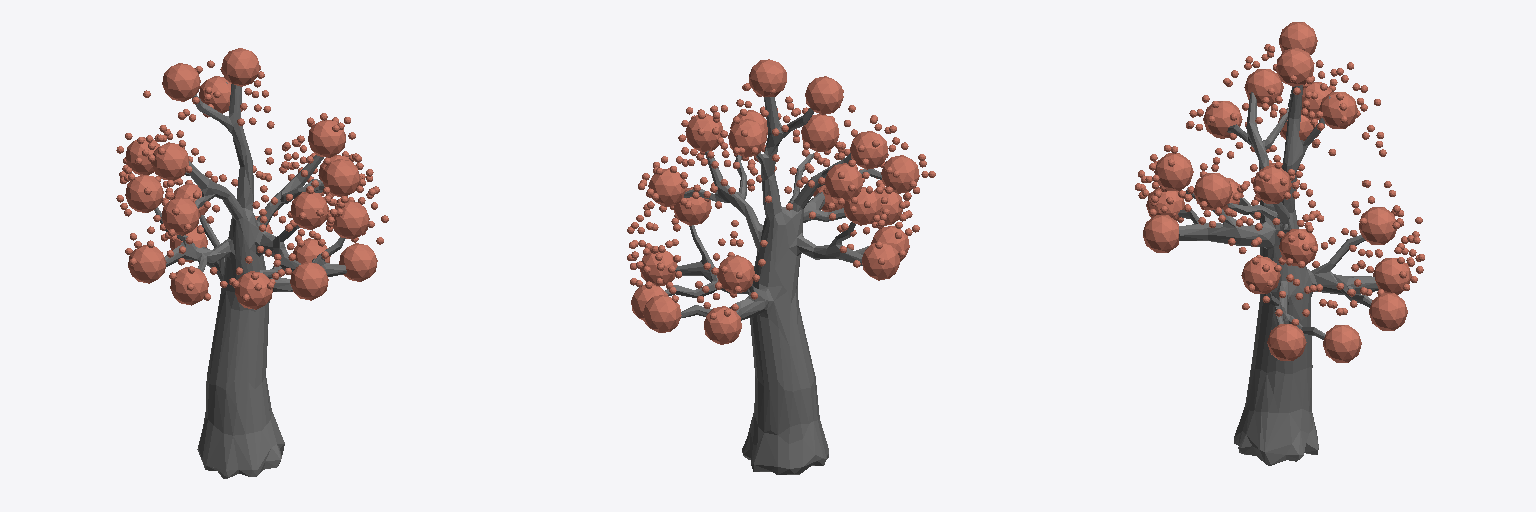
The model's file is sakura.obj.
The picture shows the model from 3 angles: view 1: azimuth 30°, elevation 25°; view 2: azimuth 150°, elevation 25°; view 3: azimuth 270°, elevation 25°; orthographic projection.
Parts seen in each view (by area): view 1: Trunk_Group1, Icosphere, Icosphere.008, Icosphere.009, Icosphere.015, Icosphere.018, Icosphere.004, Icosphere.014, Icosphere.003, Icosphere.006, Icosphere.017, Icosphere.002 (+6 smaller); view 2: Trunk_Group1, Icosphere.008, Icosphere.013, Icosphere.009, Icosphere.017, Icosphere.012, Icosphere.003, Icosphere.005, Icosphere.006, Icosphere.007, Icosphere.011, Icosphere.010 (+7 smaller); view 3: Trunk_Group1, Icosphere.305_Icosphere.358, Icosphere.013, Icosphere.018, Icosphere, Icosphere.009, Icosphere.017, Icosphere.015, Icosphere.011, Icosphere.012, Icosphere.010, Icosphere.006 (+6 smaller).
Part boxes in pixels (bbox=[...]): Trunk_Group1: bbox=[154, 82, 346, 478]; Icosphere: bbox=[290, 262, 328, 300]; Icosphere.008: bbox=[162, 63, 200, 101]; Icosphere.009: bbox=[222, 48, 259, 86]; Icosphere.015: bbox=[322, 159, 360, 196]; Icosphere.018: bbox=[339, 243, 377, 281]; Icosphere.004: bbox=[125, 174, 163, 212]; Icosphere.014: bbox=[308, 120, 345, 157]; Icosphere.003: bbox=[128, 245, 166, 283]; Icosphere.006: bbox=[151, 142, 189, 180]; Icosphere.017: bbox=[290, 192, 328, 229]; Icosphere.002: bbox=[170, 267, 208, 305]; Trunk_Group1: bbox=[665, 97, 881, 474]; Icosphere.008: bbox=[805, 76, 843, 114]; Icosphere.013: bbox=[643, 294, 681, 332]; Icosphere.009: bbox=[749, 59, 786, 96]; Icosphere.017: bbox=[801, 114, 839, 151]; Icosphere.012: bbox=[704, 306, 741, 344]; Icosphere.003: bbox=[862, 242, 899, 280]; Icosphere.005: bbox=[825, 163, 862, 200]; Icosphere.006: bbox=[850, 131, 887, 169]; Icosphere.007: bbox=[881, 155, 919, 193]; Icosphere.011: bbox=[717, 255, 754, 293]; Icosphere.010: bbox=[728, 119, 766, 157]; Trunk_Group1: bbox=[1178, 85, 1378, 465]; Icosphere.305_Icosphere.358: bbox=[1323, 325, 1361, 362]; Icosphere.013: bbox=[1369, 293, 1407, 330]; Icosphere.018: bbox=[1267, 324, 1306, 360]; Icosphere: bbox=[1143, 215, 1178, 252]; Icosphere.009: bbox=[1276, 48, 1314, 86]; Icosphere.017: bbox=[1154, 153, 1193, 190]; Icosphere.015: bbox=[1193, 173, 1232, 209]; Icosphere.011: bbox=[1359, 207, 1396, 244]; Icosphere.012: bbox=[1373, 258, 1411, 294]; Icosphere.010: bbox=[1319, 92, 1357, 128]; Icosphere.006: bbox=[1244, 69, 1283, 106].
Bounding box in the file's own units: 15.38 × 22.59 × 14.7.